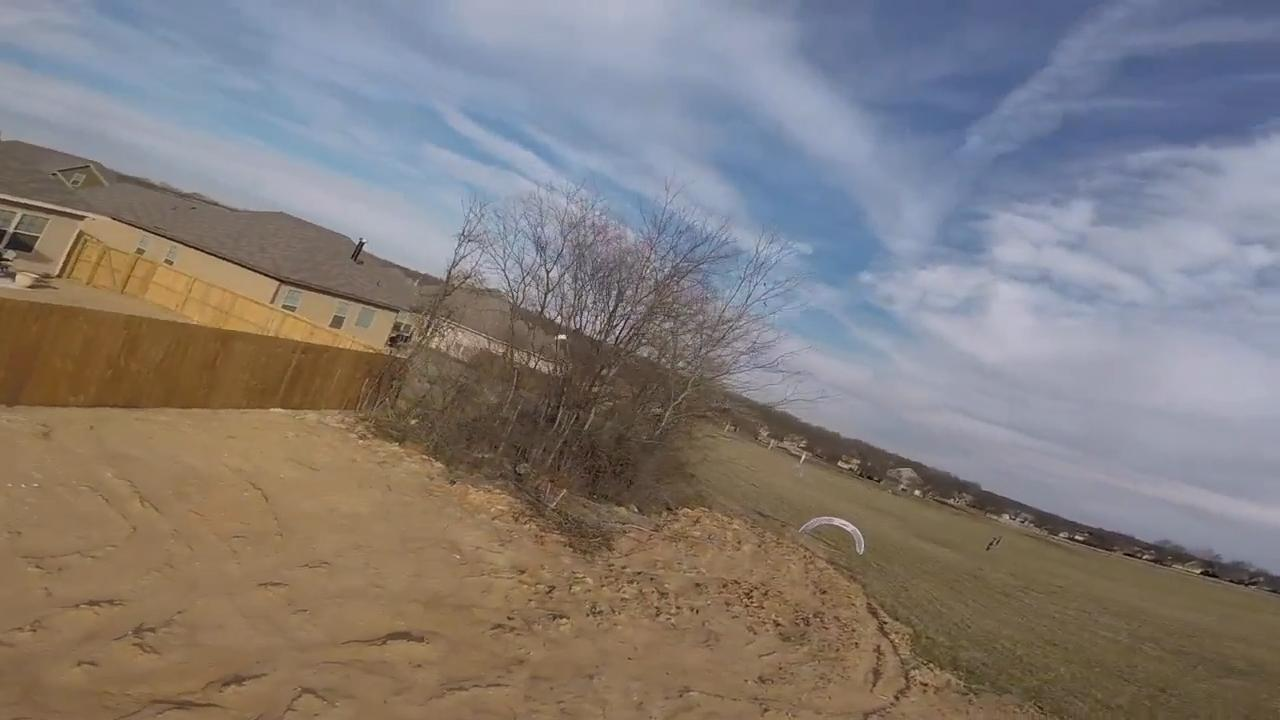gate: (797, 516, 864, 564)
